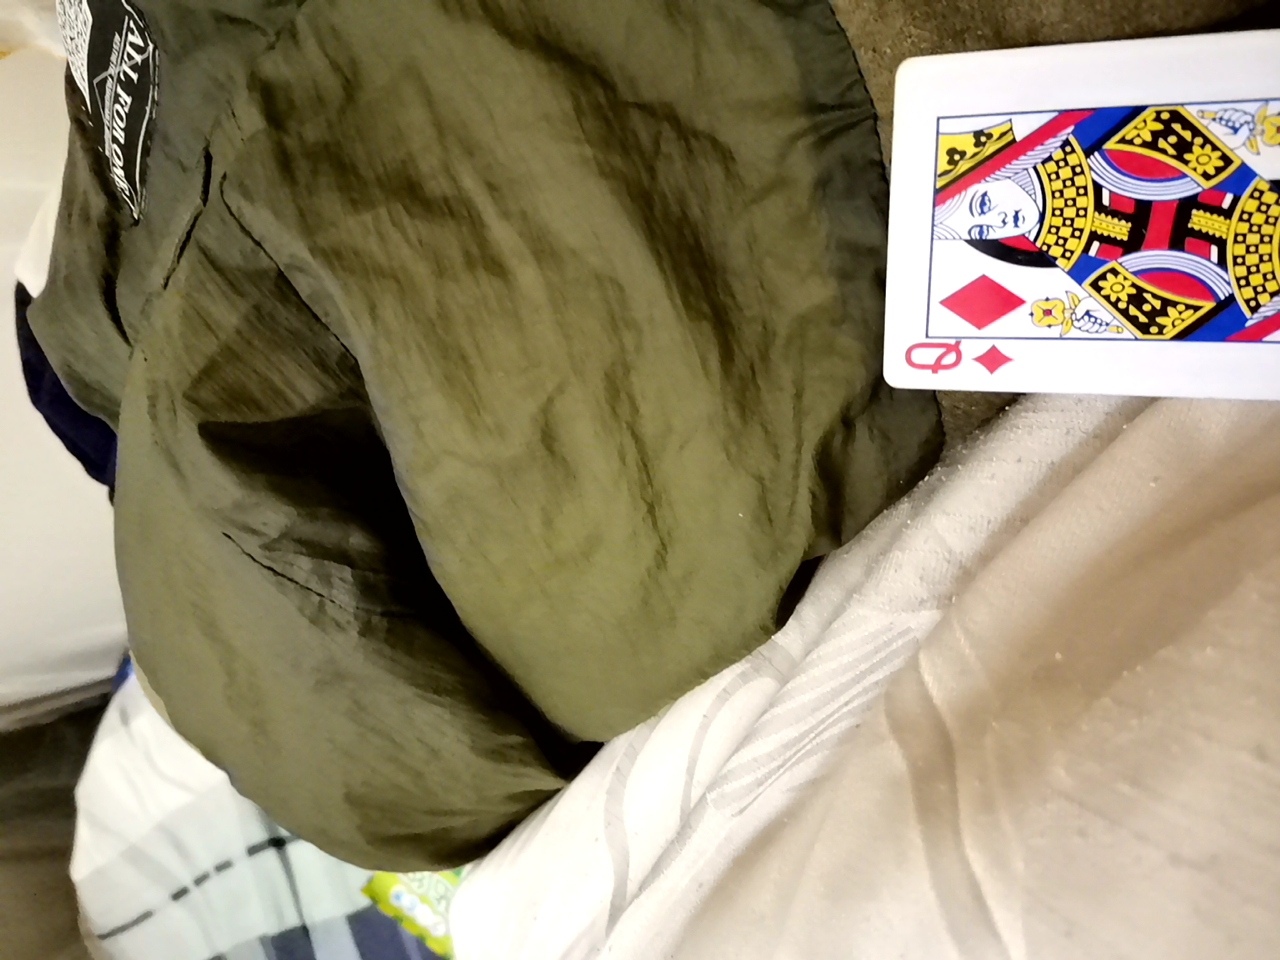fk q: (875, 10, 1269, 419)
